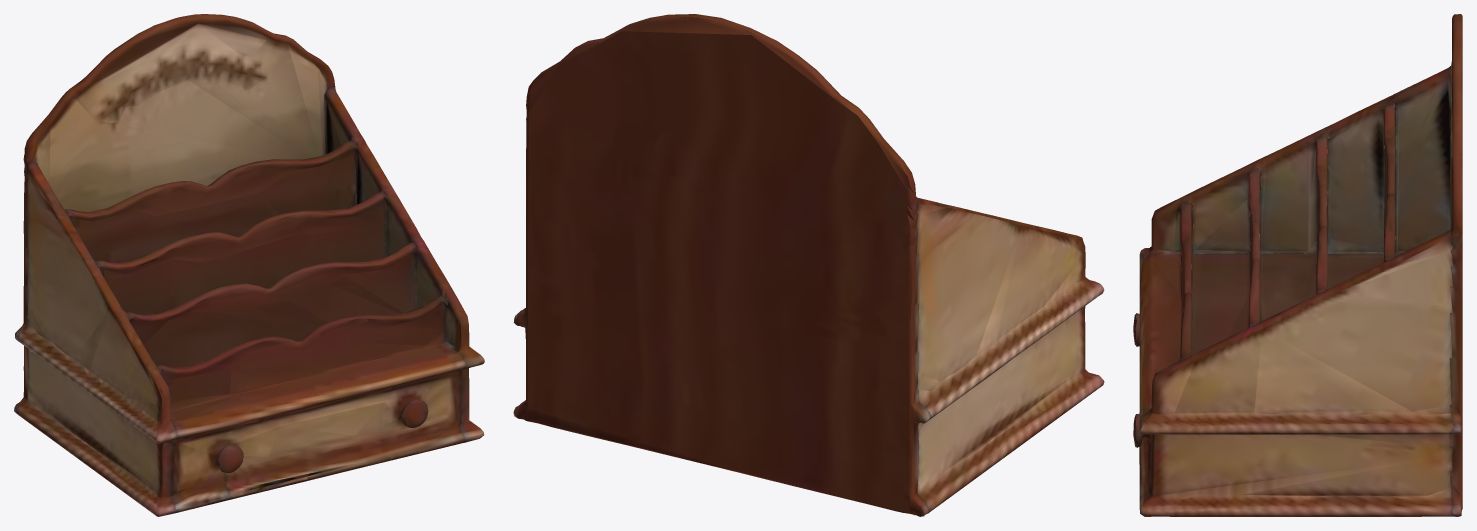
File: obj_letter_box.glb
The picture shows the model from 3 angles, left to right: view 1: azimuth 30°, elevation 25°; view 2: azimuth 150°, elevation 25°; view 3: azimuth 270°, elevation 25°; orthographic projection. The views are drawn at different scales.
Parts seen in each view (by area): view 1: Object_3; view 2: Object_3; view 3: Object_3.
Part boxes in pixels (left/top/right/bottom): Object_3: left=14, top=14, right=484, bottom=516; Object_3: left=513, top=14, right=1104, bottom=516; Object_3: left=1133, top=14, right=1462, bottom=516.
Bounding box in the file's own units: 0.337 × 0.3503 × 0.2614.
1 material, 1 textured.
